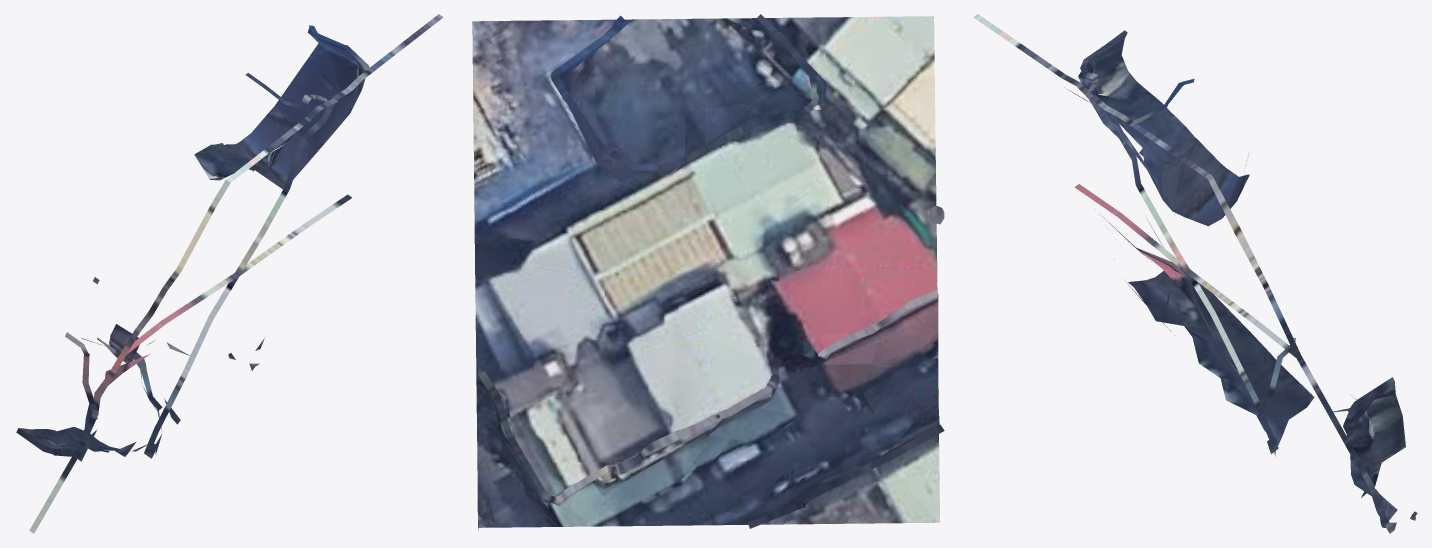
3 renders of one model, left to right at view 1: azimuth 30°, elevation 25°; view 2: azimuth 150°, elevation 25°; view 3: azimuth 270°, elevation 25°, orthographic. The views are drawn at different scales.
Bounding box in the file's own units: 39.71 × 37.5 × 34.34.
1 material, 1 textured.
